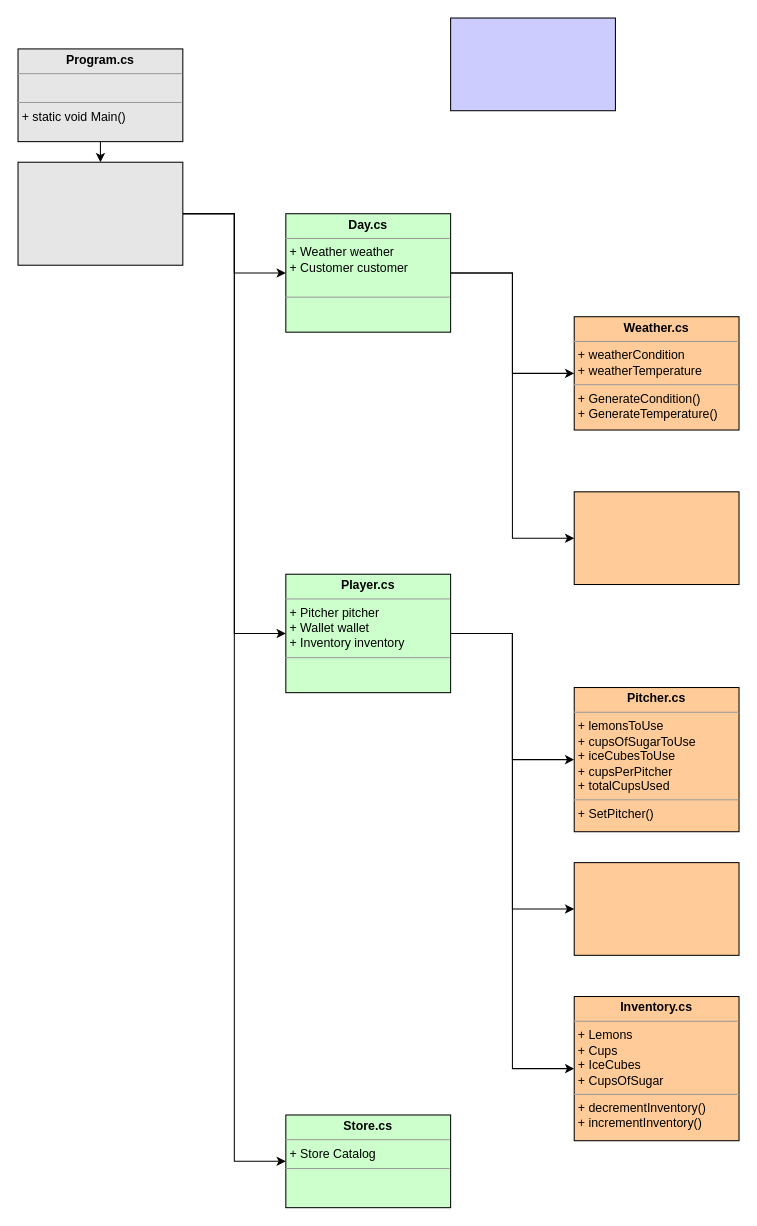
Image size: 757x1226. Some labels were removed from this diagram. The box of each missing label's shape, as (x1, y1, x2, y2) in pixels:
Customer.cs + isBuying + DetermineIfBuying(): (573, 491, 739, 585)
Game.cs + Player player + Day day + Store store: (17, 161, 183, 265)
UI.cs: (450, 17, 615, 111)
Wallet.cs + totalMoney + decrementMoney() + incrementMoney(): (573, 862, 739, 955)
